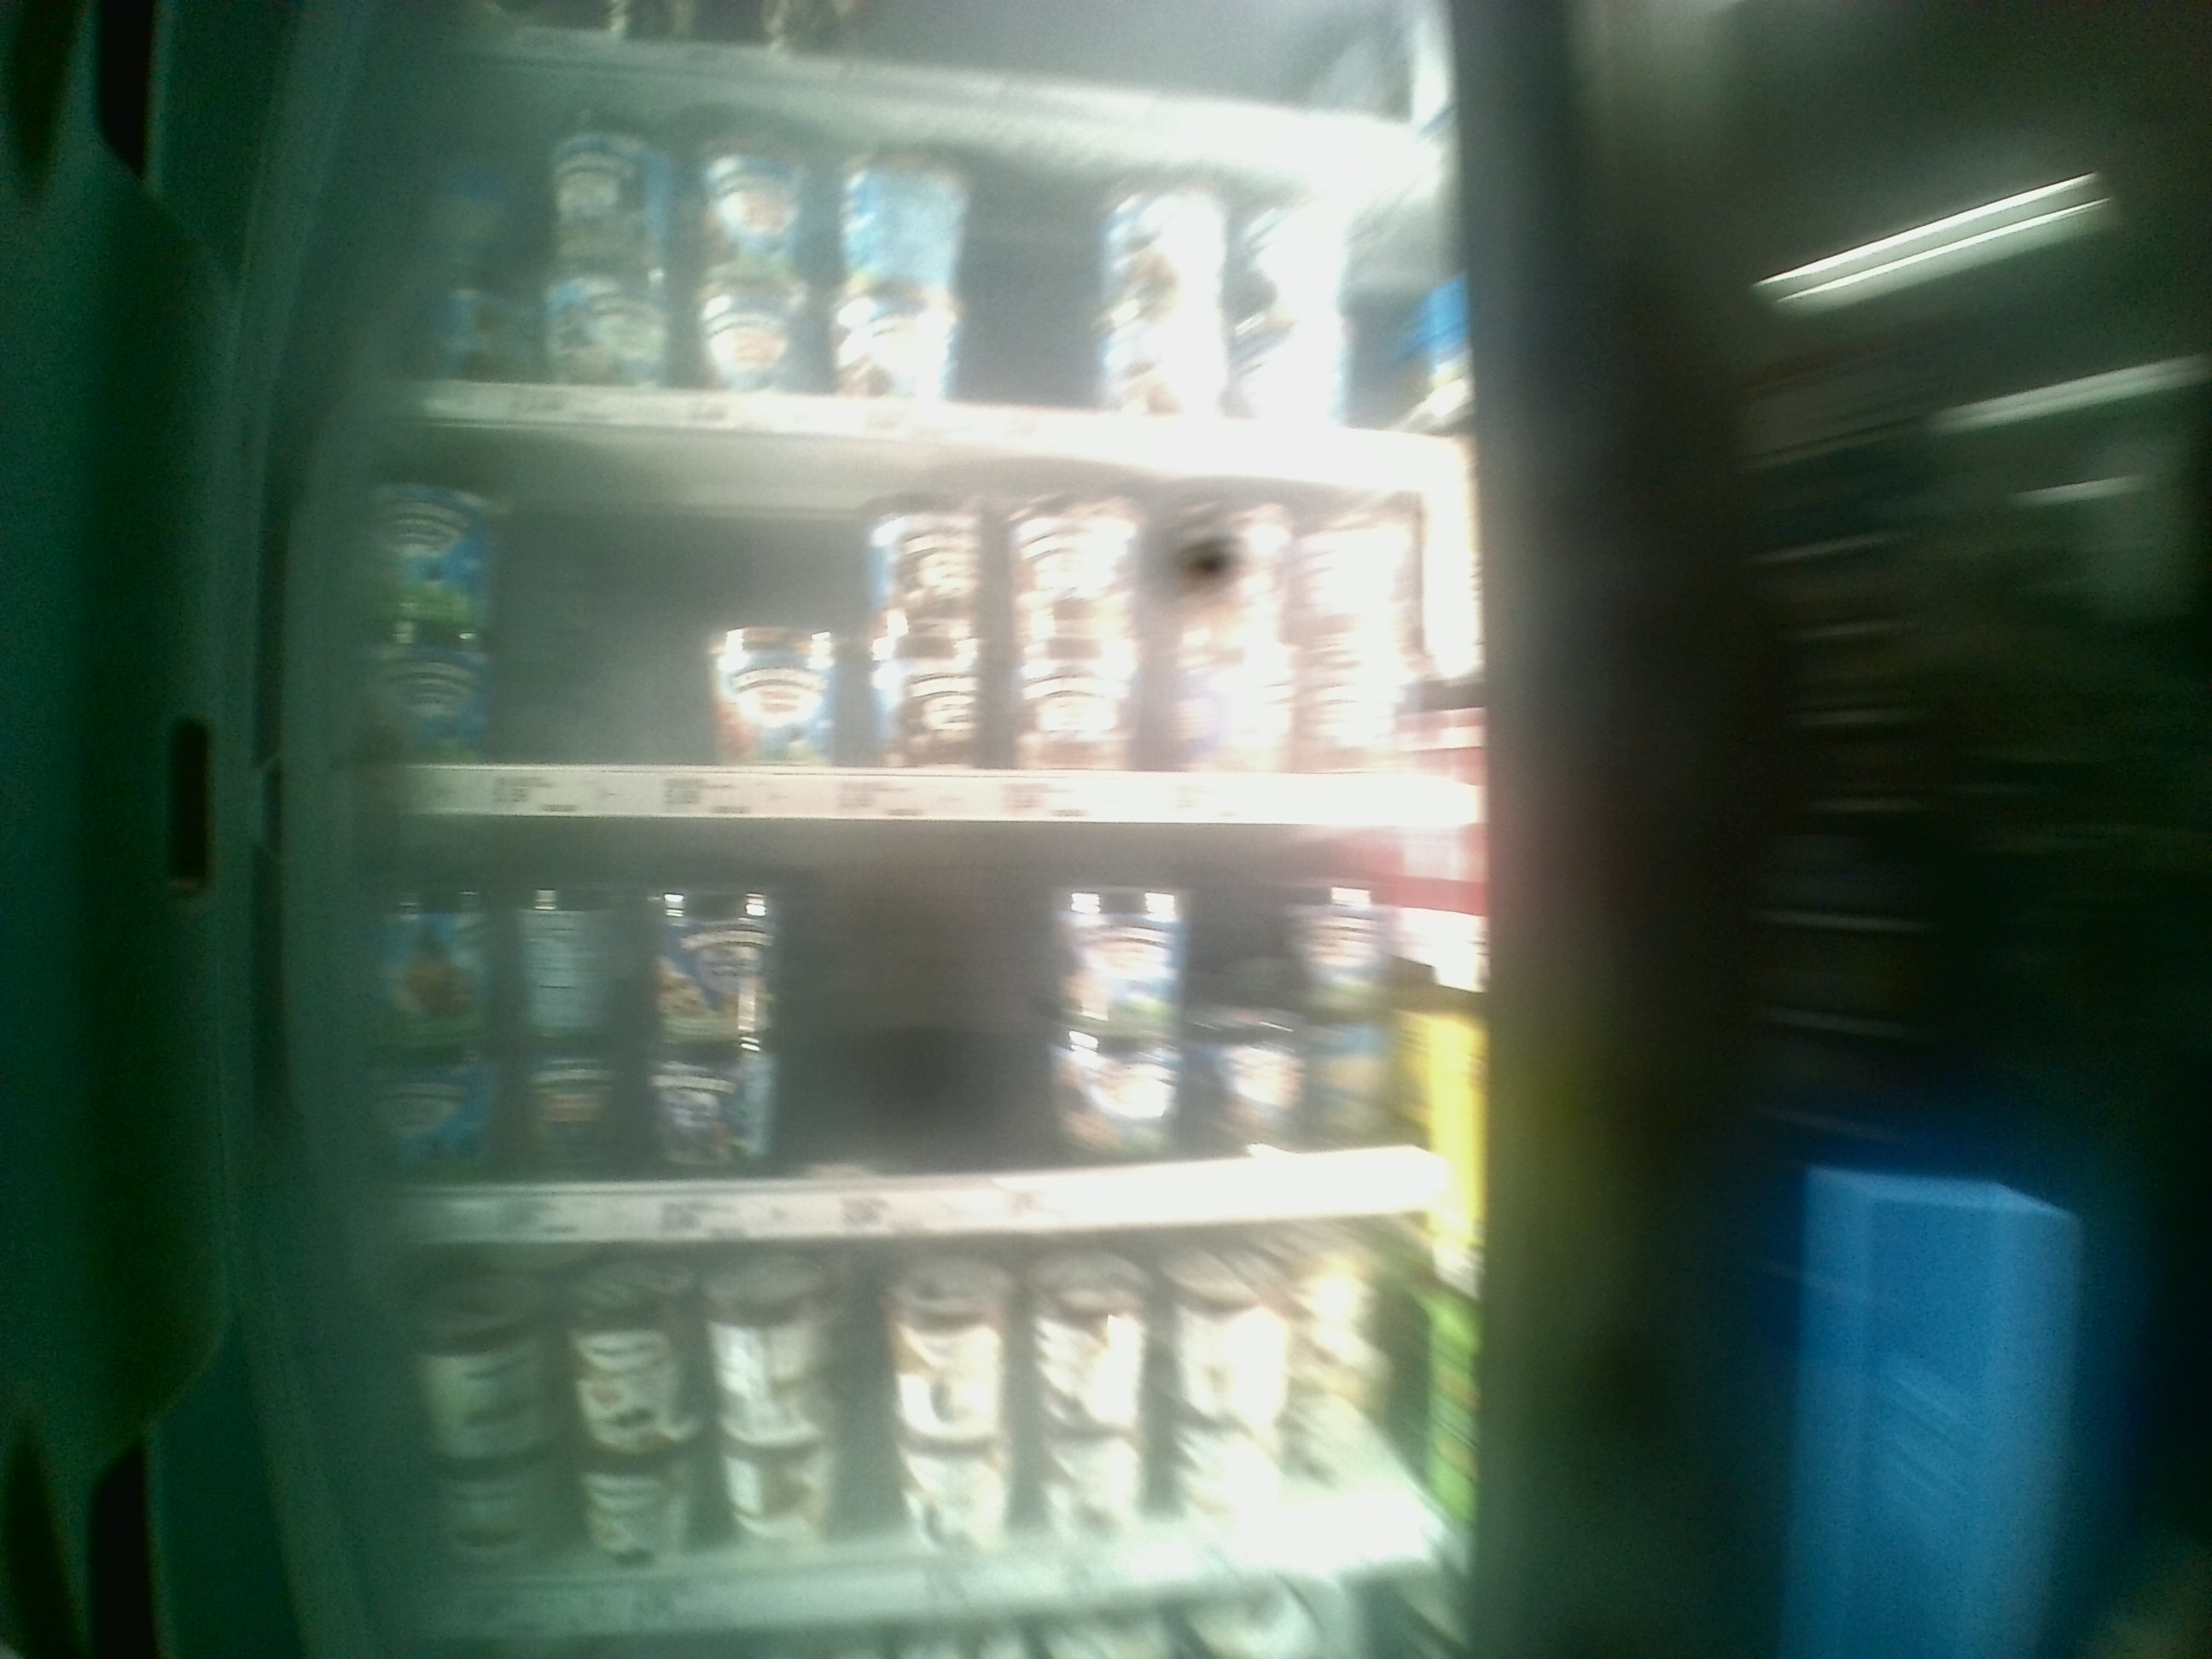shelf: (340, 824, 1465, 1241), (340, 425, 1493, 824)
